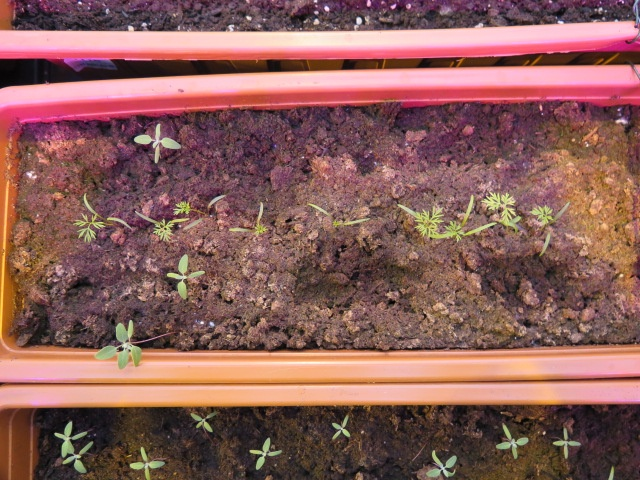weed: (131, 116, 183, 164), (164, 250, 208, 302), (305, 201, 372, 231), (394, 195, 443, 235), (482, 184, 523, 230), (446, 191, 478, 240), (231, 196, 268, 238), (494, 419, 530, 462), (246, 433, 284, 473), (549, 421, 582, 462), (424, 445, 459, 479), (187, 405, 222, 435), (328, 409, 352, 443)
